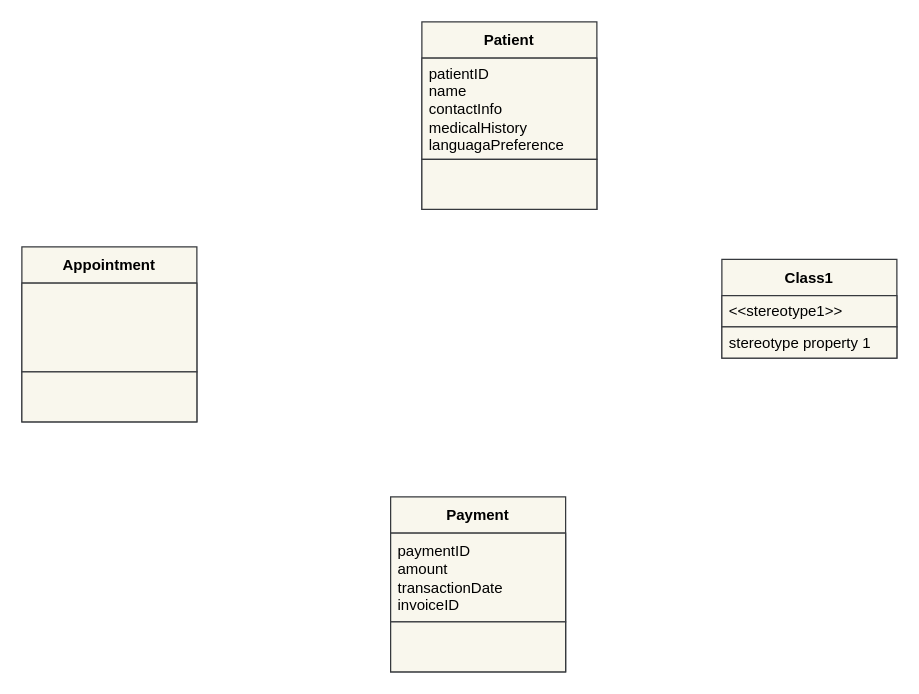
This 919x694 diagram has some shape labels left out. The shapes that lost their labels are listed below. From the top down, each one's centre as x and y in pixels, then its label:
At (509,183): "updateInfo() viewAppointments()".
At (109,327): "appointmentID date time status".
At (109,396): "schedule() cancel()".
At (477,646): "processPayment() generateInvoice()".
